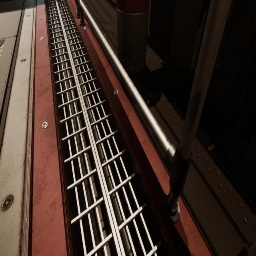NitrogenTank ,: (116, 0, 150, 76)
